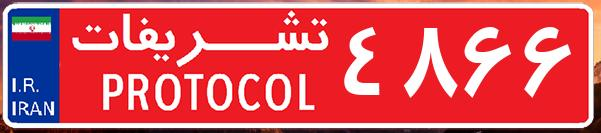4: (340, 20, 400, 115)
6: (460, 20, 520, 115), (520, 20, 580, 115)
8: (400, 20, 460, 115)
تشریفات: (60, 8, 340, 125)
